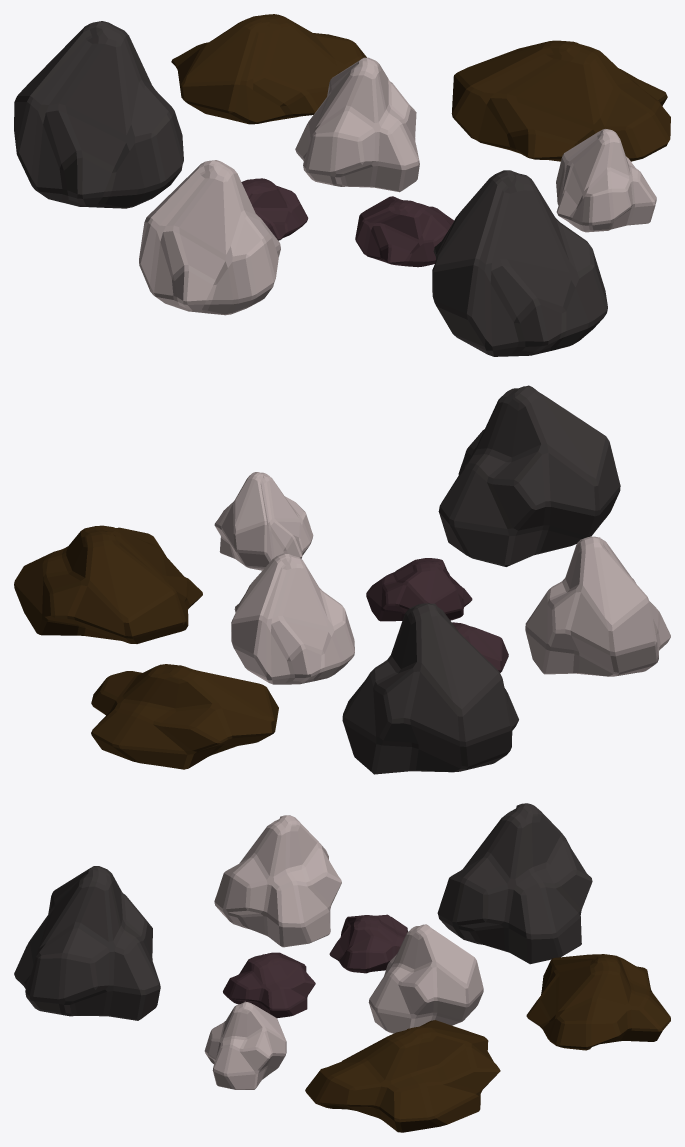
File: ResourcePack.fbx
The picture shows the model from 3 angles, top to bottom: view 1: azimuth 30°, elevation 25°; view 2: azimuth 150°, elevation 25°; view 3: azimuth 270°, elevation 25°; orthographic projection. The views are drawn at different scales.
Visible parts, largest first — view 1: resource metal, resource metal.001, resource copper.001, resource iron.002, resource copper, resource iron, resource iron.001, resource obsidian, resource obsidian.001; view 2: resource metal, resource metal.001, resource copper.001, resource copper, resource iron.002, resource iron, resource iron.001, resource obsidian, resource obsidian.001; view 3: resource metal.001, resource metal, resource copper.001, resource iron.002, resource copper, resource iron, resource iron.001, resource obsidian, resource obsidian.001.
Boxes of the visible parts, bbox=[...] form: resource metal: bbox=[432, 170, 607, 356]; resource metal.001: bbox=[14, 21, 183, 208]; resource copper.001: bbox=[451, 40, 670, 161]; resource iron.002: bbox=[139, 160, 280, 315]; resource copper: bbox=[171, 14, 366, 124]; resource iron: bbox=[295, 57, 419, 192]; resource iron.001: bbox=[556, 129, 656, 232]; resource obsidian: bbox=[355, 196, 454, 267]; resource obsidian.001: bbox=[241, 178, 308, 240]; resource metal: bbox=[438, 385, 620, 566]; resource metal.001: bbox=[342, 603, 518, 774]; resource copper.001: bbox=[14, 525, 202, 643]; resource copper: bbox=[91, 664, 278, 769]; resource iron.002: bbox=[525, 536, 670, 676]; resource iron: bbox=[231, 553, 354, 684]; resource iron.001: bbox=[214, 472, 313, 570]; resource obsidian: bbox=[366, 558, 472, 621]; resource obsidian.001: bbox=[452, 622, 508, 672]; resource metal.001: bbox=[437, 803, 592, 964]; resource metal: bbox=[14, 866, 160, 1020]; resource copper.001: bbox=[305, 1020, 500, 1132]; resource iron.002: bbox=[214, 815, 341, 947]; resource copper: bbox=[526, 954, 670, 1050]; resource iron: bbox=[368, 924, 483, 1033]; resource iron.001: bbox=[204, 1001, 286, 1089]; resource obsidian: bbox=[223, 952, 315, 1018]; resource obsidian.001: bbox=[329, 914, 407, 973].
Bounding box in the file's own units: 890 × 228 × 1022.
